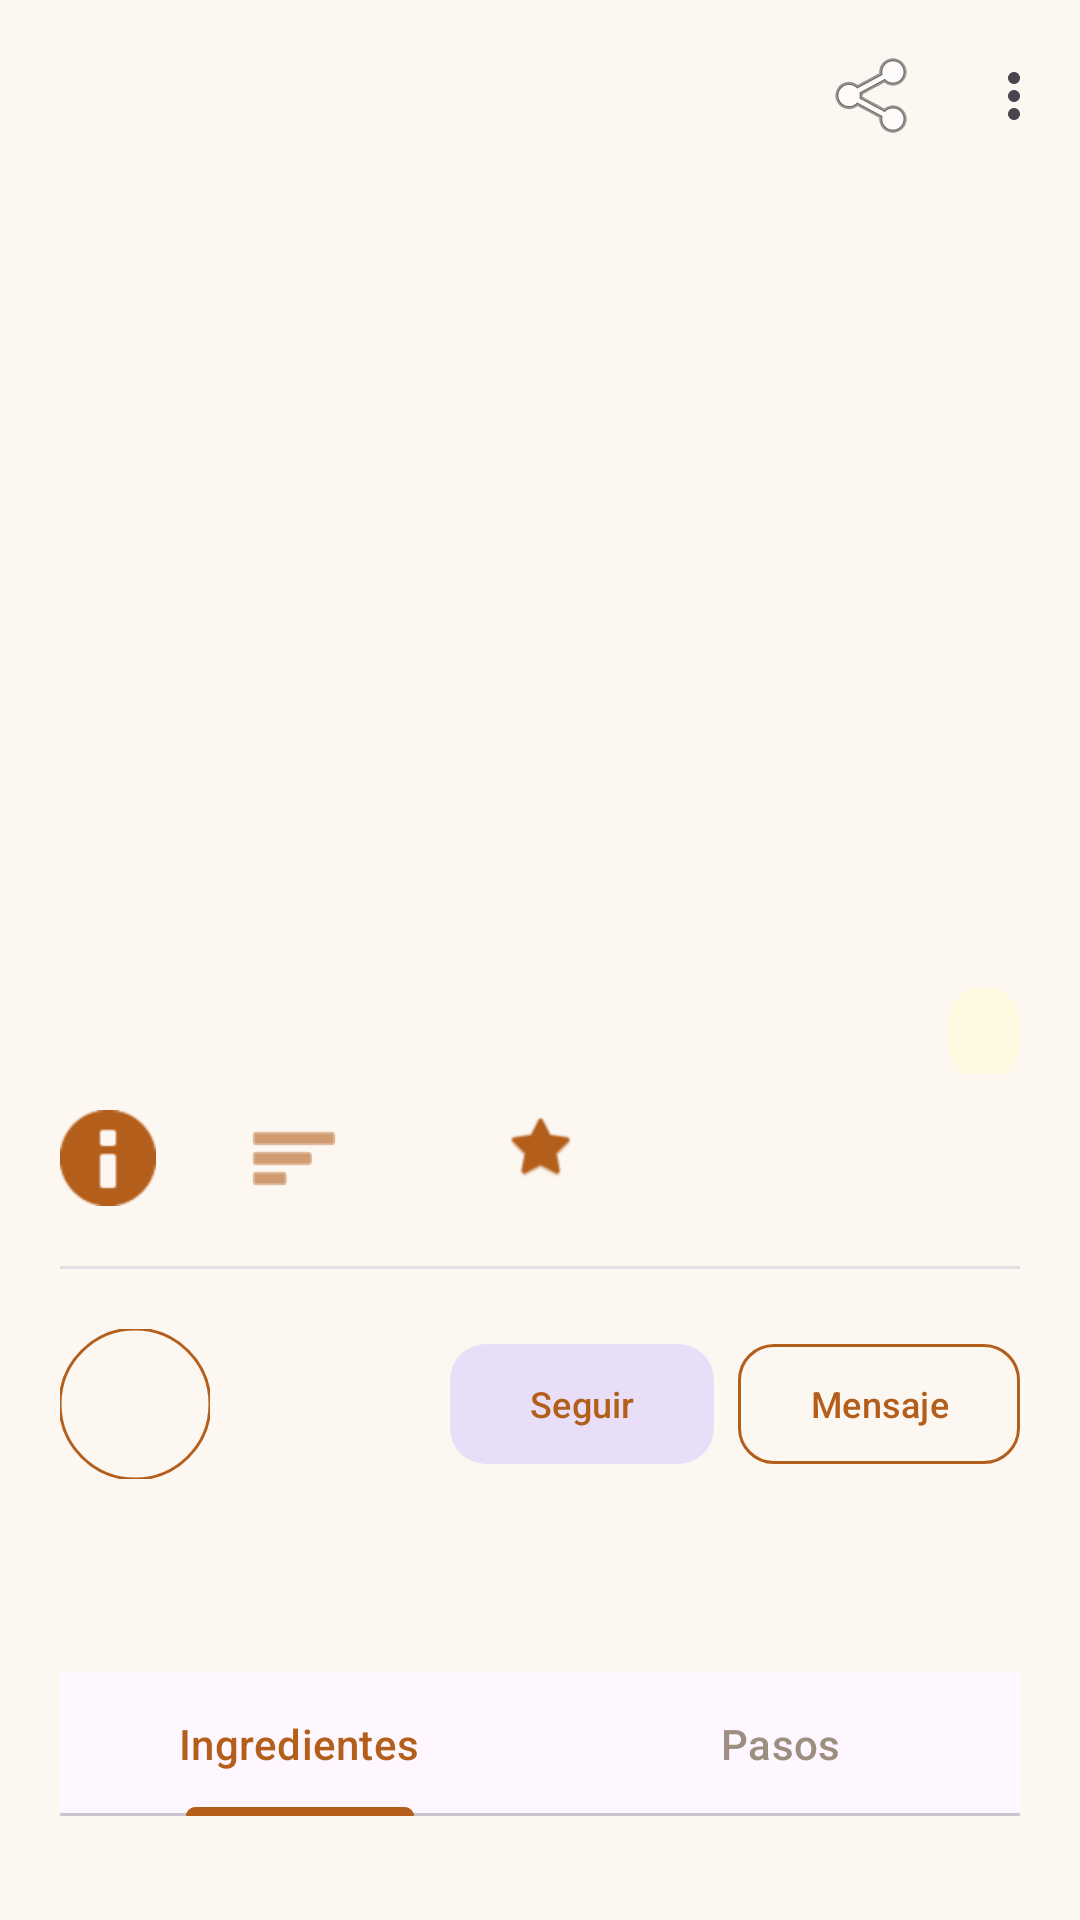

Icon click points for this 1080*1920 phone screenshot, format (x,y):
star: (541,1146)
